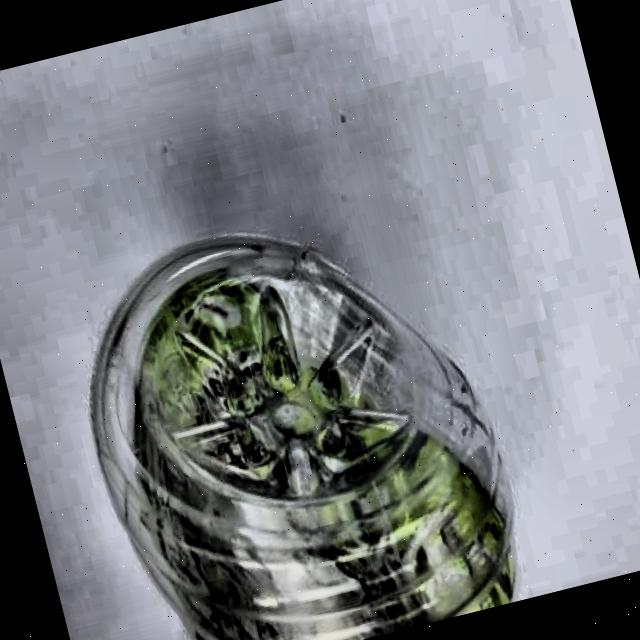plastic: (57, 187, 532, 640)
